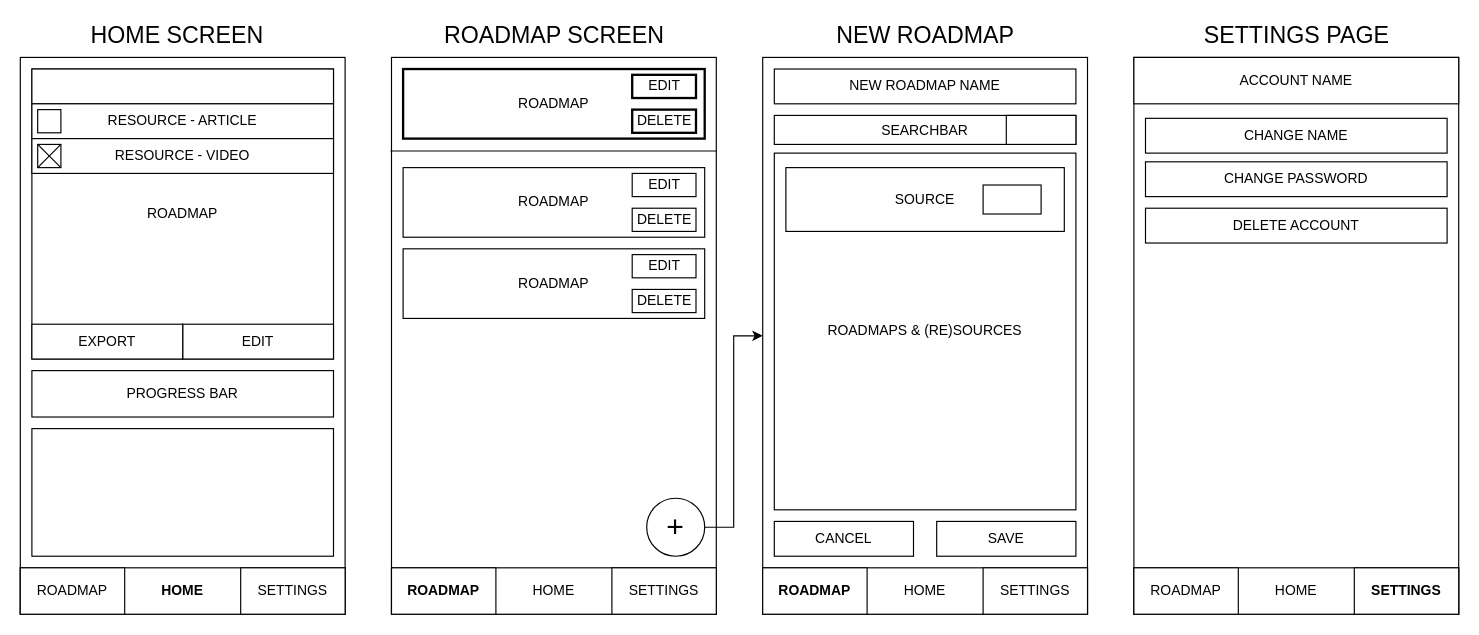
The diagram is 1479 pixels wide and 635 high, and some of its shapes have lost their labels. Here are the shapes that lost their labels. From the top down, the centre of each, then its label:
At point 182,86: "ROADMAP NAME".
At point 1040,129: "SEARCH".
At point 1011,199: "ADD".
At point 182,491: "ACHIEVEMENTS".
